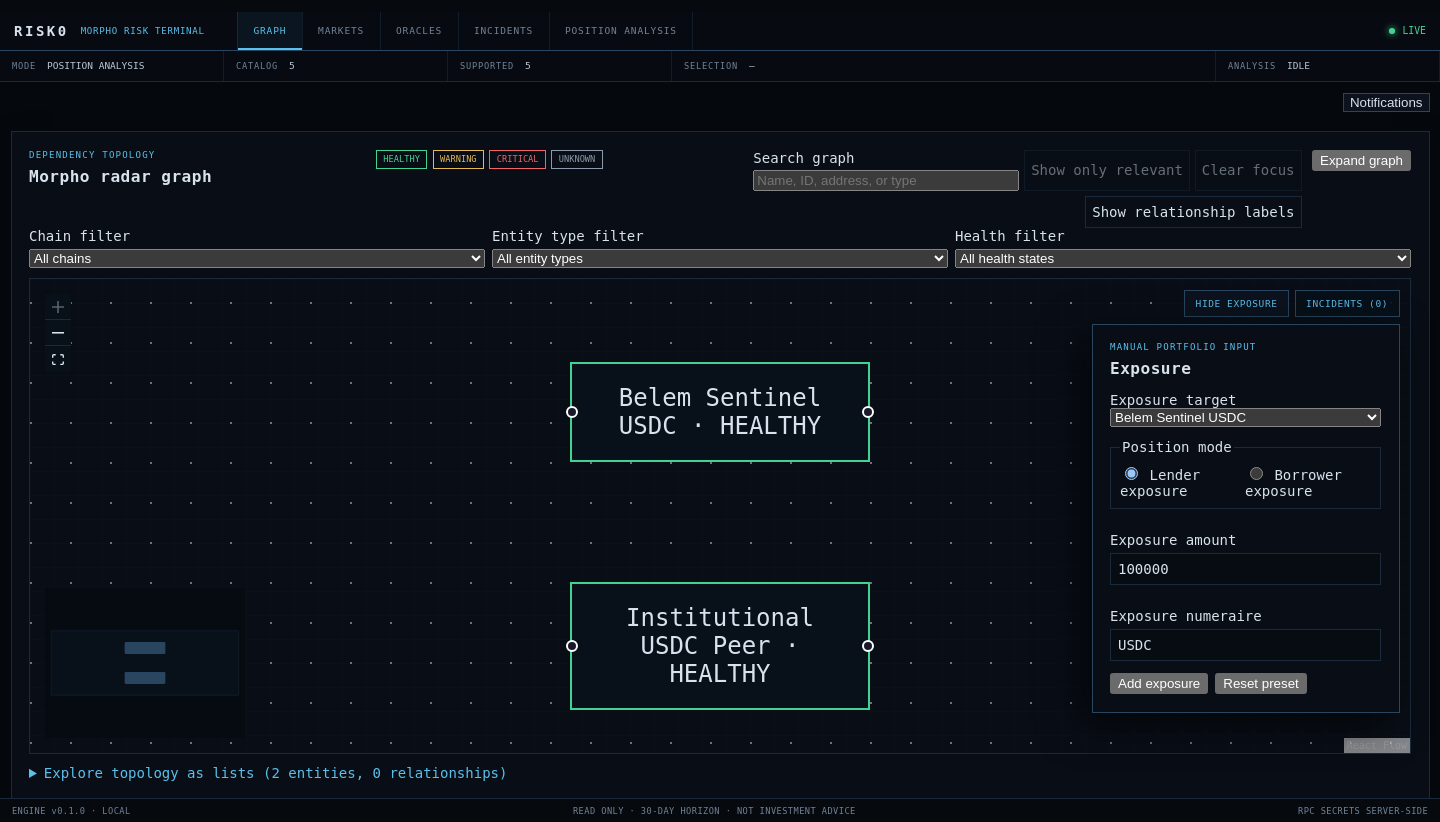
Home › uses a full radar workspace whose exposure and incident panels never cover each other
Expected: the heading "Morpho radar graph" is shown, [29, 166, 212, 186]
Expected: the element "Exposure" is shown, [1092, 325, 1398, 712]
Note: Opening one panel closes the other, so a long incident list cannot squeeze the form.
Click the button "Incidents (0)" at (1347, 303), box [1295, 290, 1400, 317]
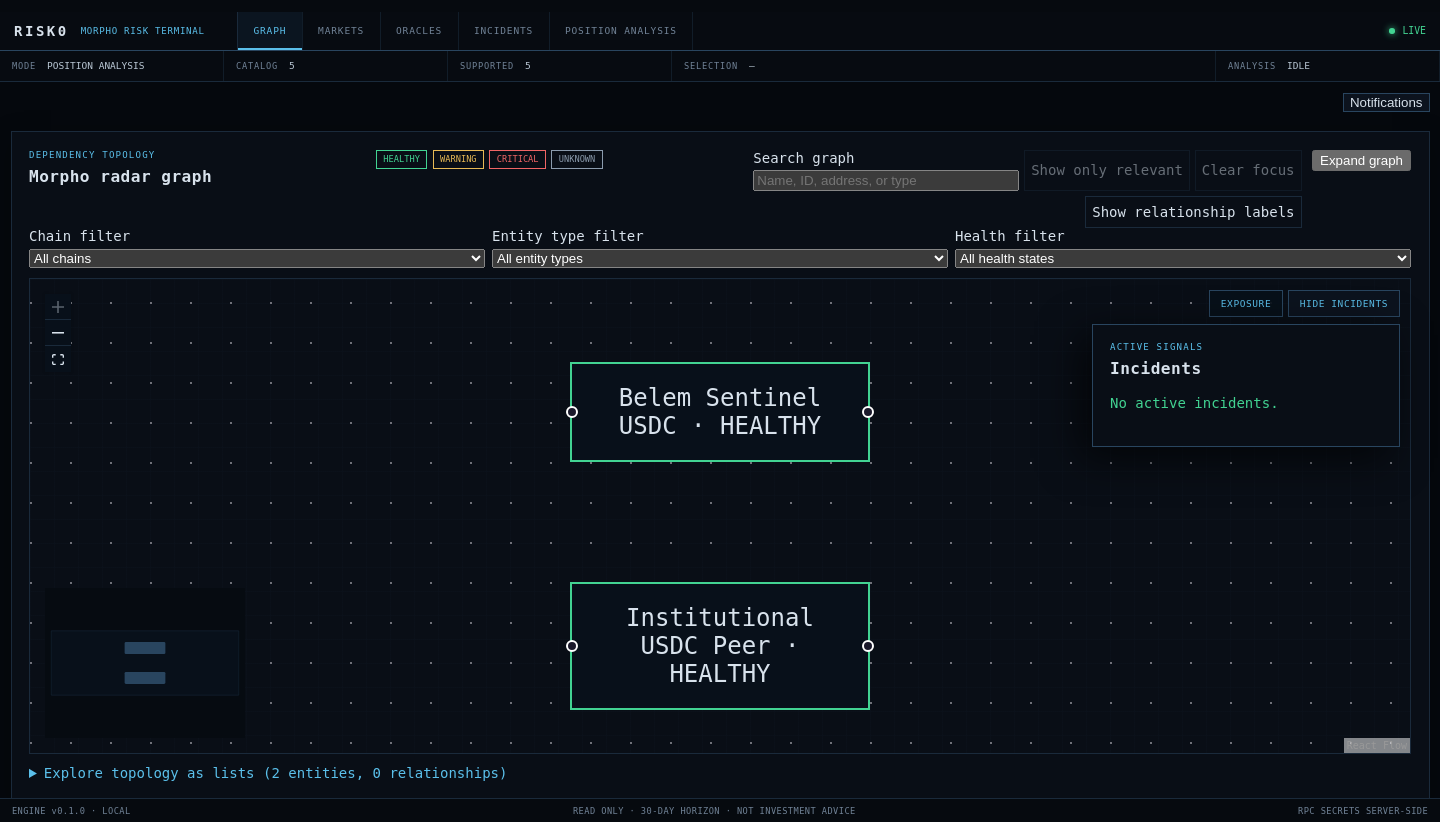
Now the heading "Incidents" is shown, box [1110, 359, 1202, 378]
Click the button "Hide incidents" at (1344, 303), box [1288, 290, 1400, 317]
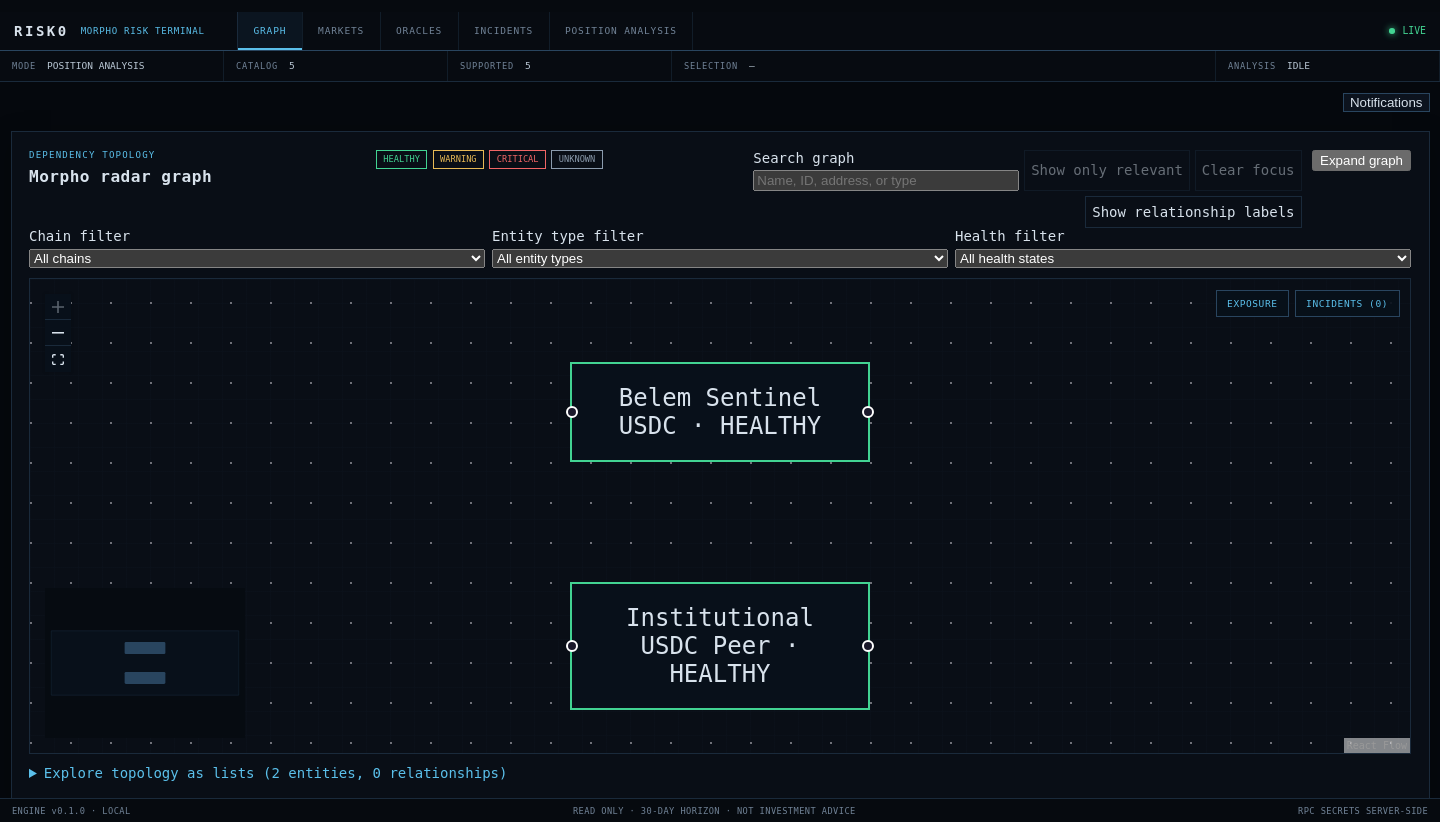
Click the button "Exposure" at (1252, 303), box [1216, 290, 1289, 317]
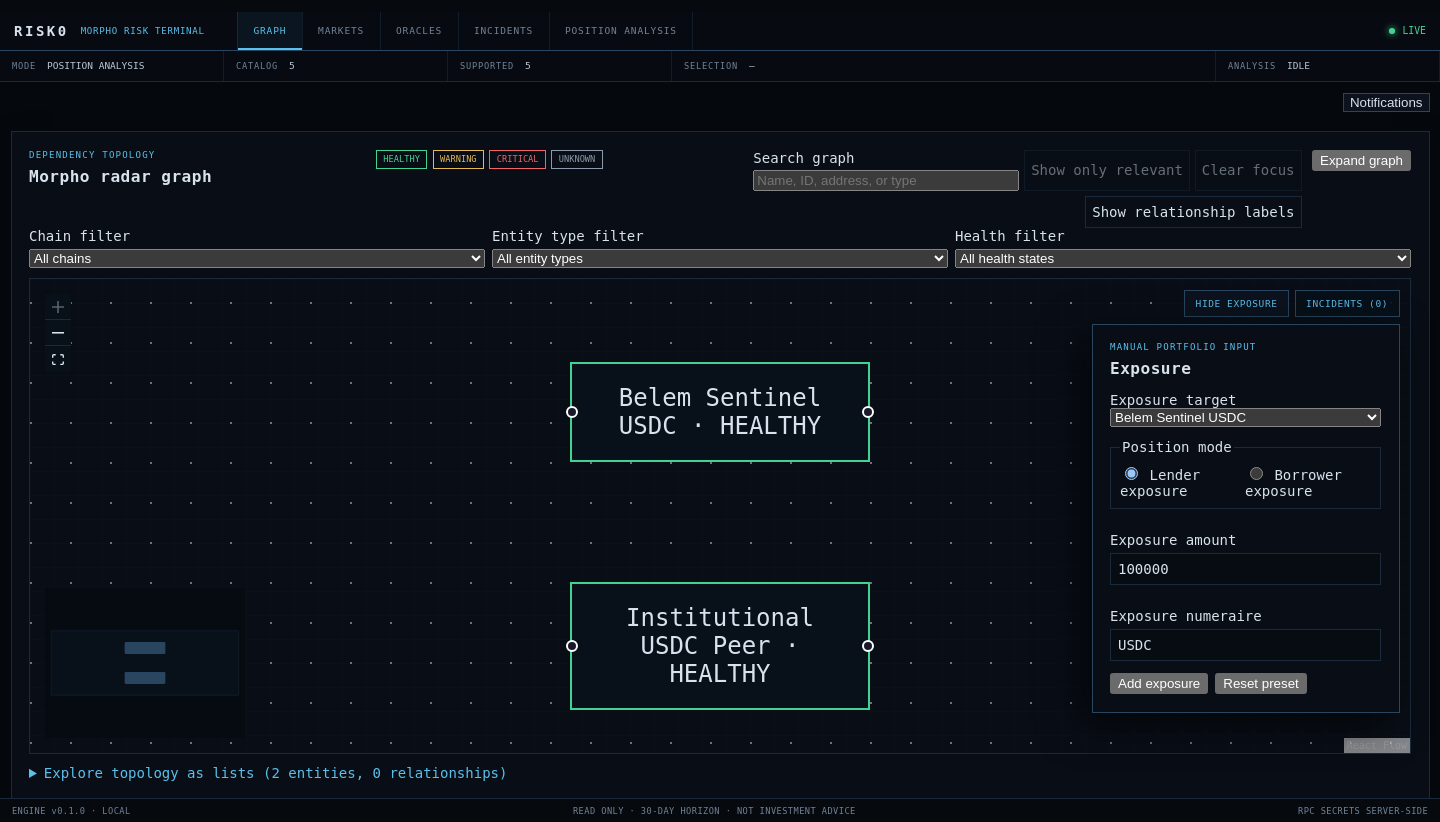
Now the element "Exposure" is shown, box [1092, 325, 1398, 712]
